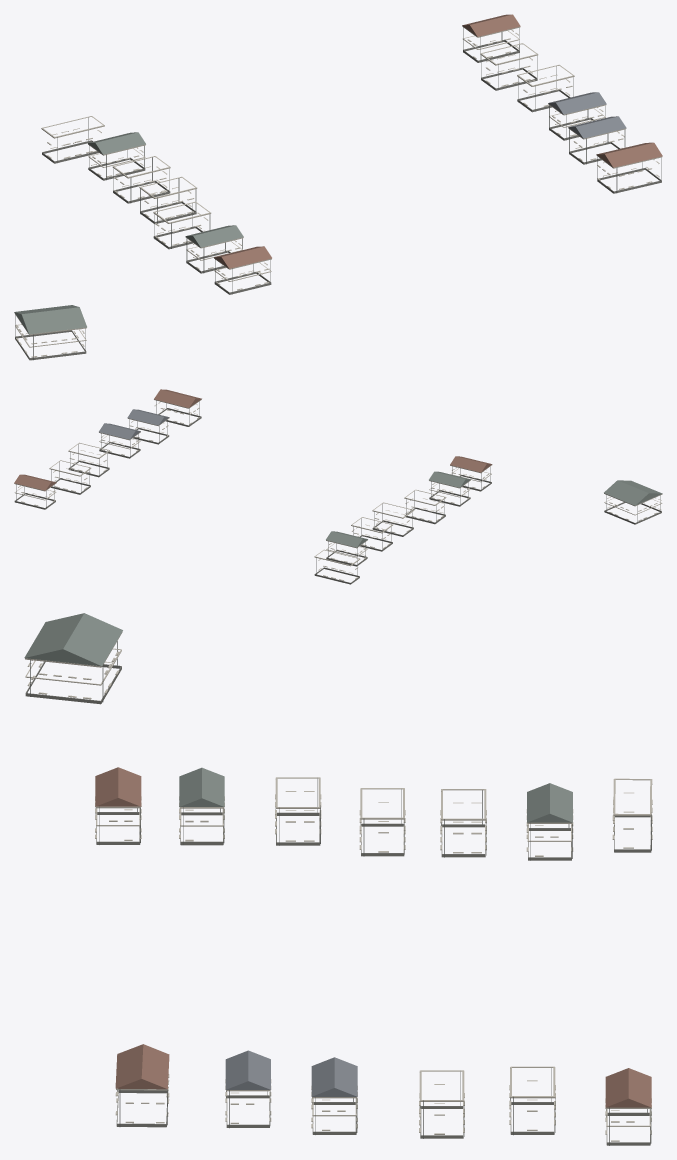
Rendered from district_-1_-3.glb.
The picture shows the model from 3 angles, top to bottom: view 1: azimuth 30°, elevation 25°; view 2: azimuth 150°, elevation 25°; view 3: azimuth 270°, elevation 25°; orthographic projection. The views are drawn at different scales.
Parts seen in each view (by area): view 1: MasonryTrim, RoofMetal, MetalDetails; view 2: MasonryTrim, RoofMetal, MetalDetails; view 3: RoofMetal, MasonryTrim, MetalDetails.
Boxes of the visible parts, x1,y1,x2,y2 form: MasonryTrim: (15,26,662,360); RoofMetal: (14,14,662,334); MetalDetails: (15,27,661,360); MasonryTrim: (14,399,662,584); RoofMetal: (14,389,662,547); MetalDetails: (16,400,660,575); RoofMetal: (24,613,651,1107); MasonryTrim: (25,632,652,1145); MetalDetails: (30,641,651,1145).
Size of the model in its own units: 204 by 10.1 by 112.
